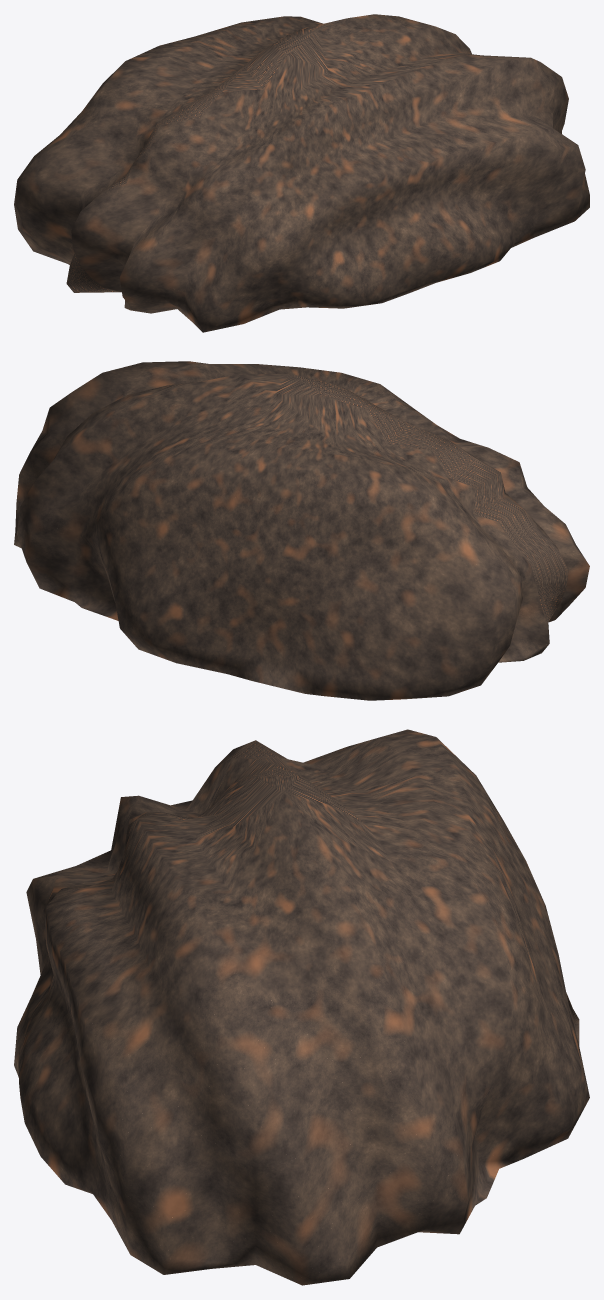
The model's file is boulder_0.dae.
The picture shows the model from 3 angles, top to bottom: view 1: azimuth 30°, elevation 25°; view 2: azimuth 150°, elevation 25°; view 3: azimuth 270°, elevation 25°; orthographic projection. The views are drawn at different scales.
Parts seen in each view (by area): view 1: boulder_0; view 2: boulder_0; view 3: boulder_0.
Part boxes in pixels (bbox=[...]): boulder_0: bbox=[14, 14, 589, 332]; boulder_0: bbox=[14, 361, 589, 700]; boulder_0: bbox=[14, 729, 589, 1285].
Bounding box in the file's own units: 2.44 × 1.57 × 0.9321.
1 material, 1 textured.
